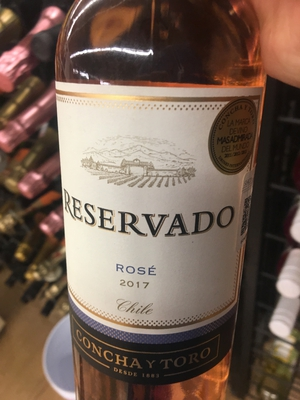reservado rose: (61, 11, 267, 400)
